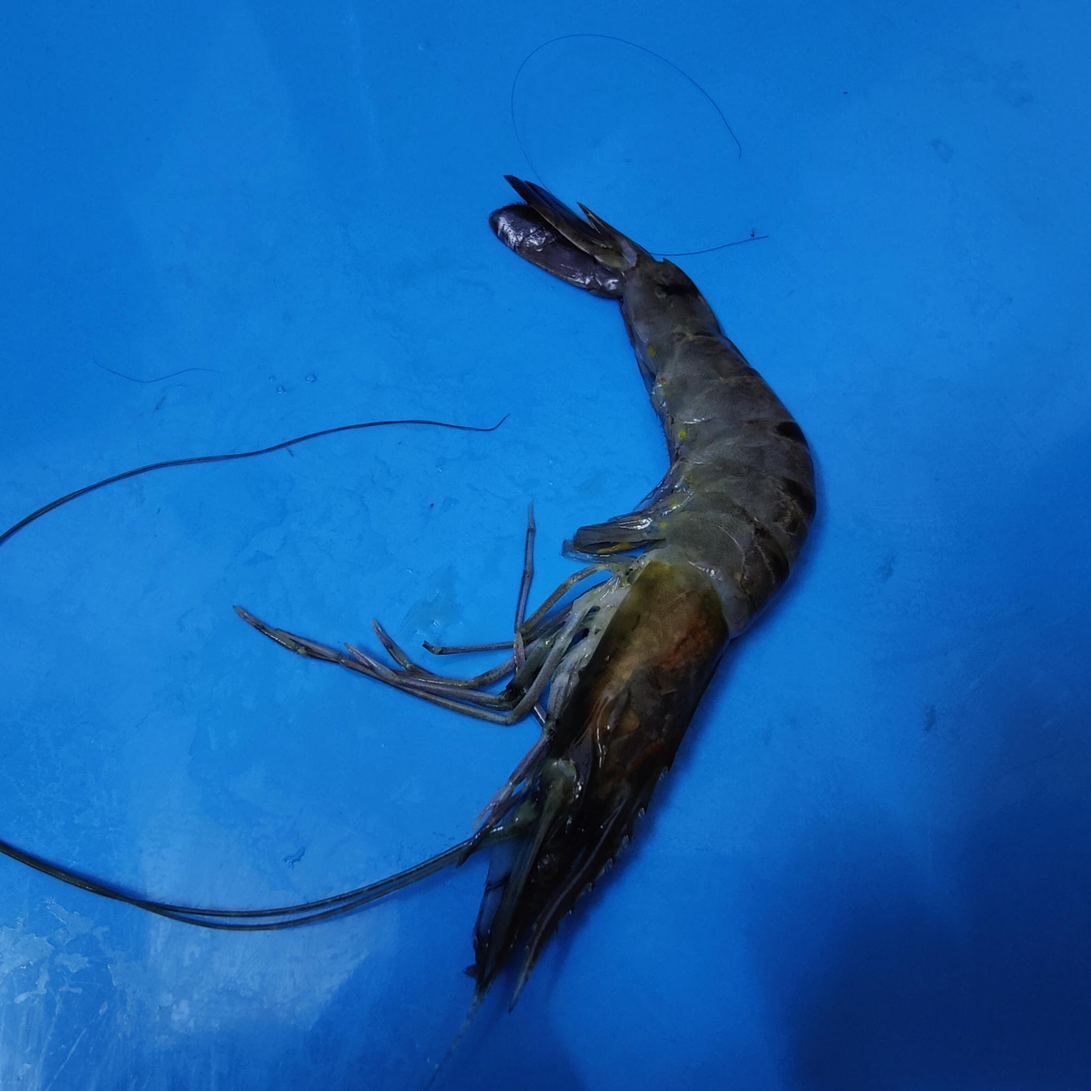blackgill: (540, 559, 700, 760)
